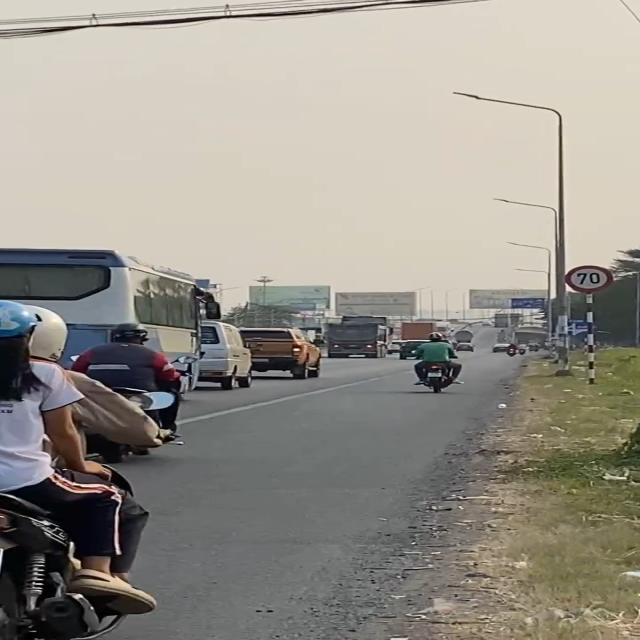127-toc-do-toi-da-70: (562, 264, 614, 292)
